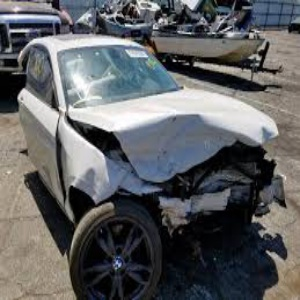bonnet: (107, 104, 281, 183)
